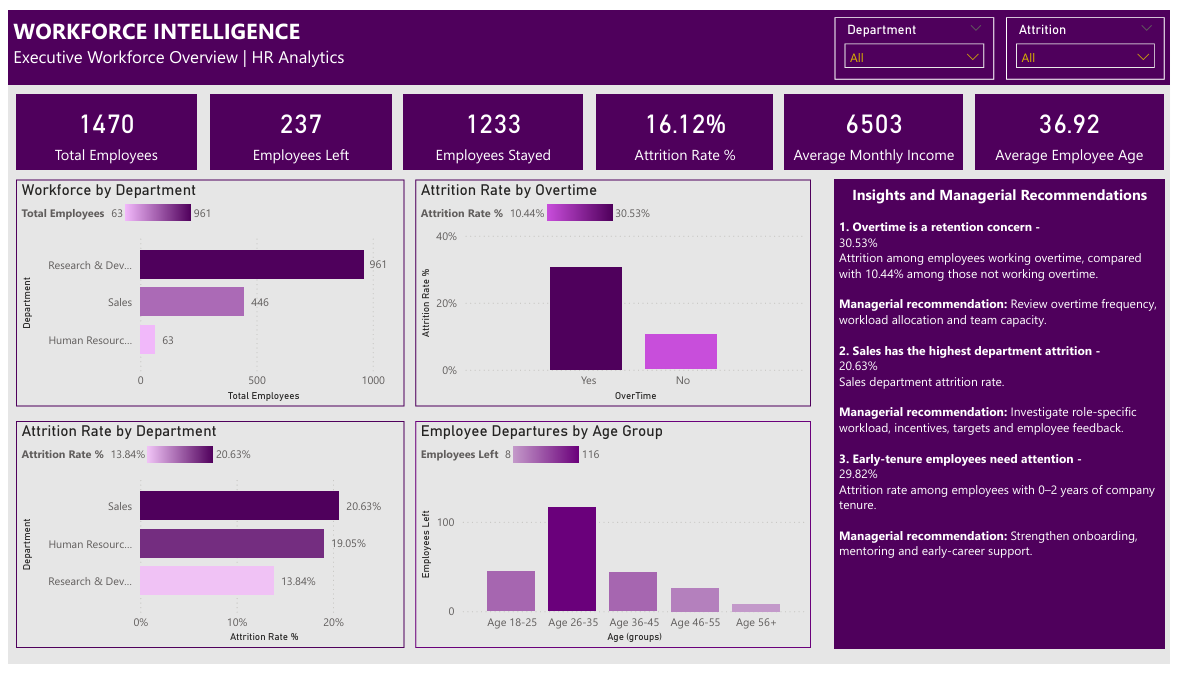

The page's visual inventory and layout, read from the dashboard file:
{"tool":"powerbi","page":{"name":"01 - Executive Overview","canvas":[1280,720],"ordinal":0},"visuals":[{"type":"card","fields":{"Values":["HR_Analytics_Cleaned.Total Employees"]},"box":[8.5,92.3,198.5,82.3],"z":0},{"type":"card","fields":{"Values":["HR_Analytics_Cleaned.Attrition Rate %"]},"box":[647.7,92.3,195.4,82.3],"z":1000},{"type":"card","fields":{"Values":["HR_Analytics_Cleaned.Employees Left"]},"box":[221.5,92.3,200,82.3],"z":2000},{"type":"card","fields":{"Values":["HR_Analytics_Cleaned.Employees Stayed"]},"box":[435.4,92.3,197.7,82.3],"z":3000},{"type":"card","fields":{"Values":["HR_Analytics_Cleaned.Average Monthly Income"]},"box":[855.4,92.3,196.2,82.3],"z":4000},{"type":"card","fields":{"Values":["HR_Analytics_Cleaned.Average Employee Age"]},"box":[1065,92,208,83],"z":5000},{"type":"textbox","box":[0,0,1280,82],"z":6000},{"type":"clusteredBarChart","title":"Workforce by Department","fields":{"Category":["HR_Analytics_Cleaned.Department"],"Y":["HR_Analytics_Cleaned.Total Employees"]},"box":[8,186,428,250],"z":7000},{"type":"clusteredBarChart","title":"\tAttrition Rate by Department","fields":{"Category":["HR_Analytics_Cleaned.Department"],"Y":["HR_Analytics_Cleaned.Attrition Rate %"]},"box":[8,452,428,250],"z":8000},{"type":"slicer","fields":{"Values":["HR_Analytics_Cleaned.Attrition"]},"box":[1098.6,7.1,175.7,68.6],"z":9000},{"type":"slicer","fields":{"Values":["HR_Analytics_Cleaned.Department"]},"box":[910,7.1,175.7,68.6],"z":10000},{"type":"clusteredColumnChart","title":"\tAttrition Rate by Overtime","fields":{"Category":["HR_Analytics_Cleaned.OverTime"],"Y":["HR_Analytics_Cleaned.Attrition Rate %"]},"box":[448,186,436,250],"z":11000},{"type":"clusteredColumnChart","title":"\tEmployee Departures by Age Group","fields":{"Y":["HR_Analytics_Cleaned.Employees Left"],"Category":["HR_Analytics_Cleaned.Age (groups)"]},"box":[448,452,436,250],"z":12000},{"type":"textbox","box":[910,186.2,363.8,516.2],"z":13000}]}

Visuals, with their boxes in screenshot pixels (x1, y1, x2, y2), scaled from the page's 1280x720 canvas onto the 1177x675 screenshot:
card - HR_Analytics_Cleaned.Total Employees: 8,87,190,164
card - HR_Analytics_Cleaned.Attrition Rate %: 596,87,775,164
card - HR_Analytics_Cleaned.Employees Left: 204,87,388,164
card - HR_Analytics_Cleaned.Employees Stayed: 400,87,582,164
card - HR_Analytics_Cleaned.Average Monthly Income: 787,87,967,164
card - HR_Analytics_Cleaned.Average Employee Age: 979,86,1171,164
textbox: 0,0,1176,77
"Workforce by Department" clusteredBarChart: 7,174,401,409
"	Attrition Rate by Department" clusteredBarChart: 7,424,401,658
slicer - HR_Analytics_Cleaned.Attrition: 1010,7,1172,71
slicer - HR_Analytics_Cleaned.Department: 837,7,998,71
"	Attrition Rate by Overtime" clusteredColumnChart: 412,174,813,409
"	Employee Departures by Age Group" clusteredColumnChart: 412,424,813,658
textbox: 837,175,1171,659
